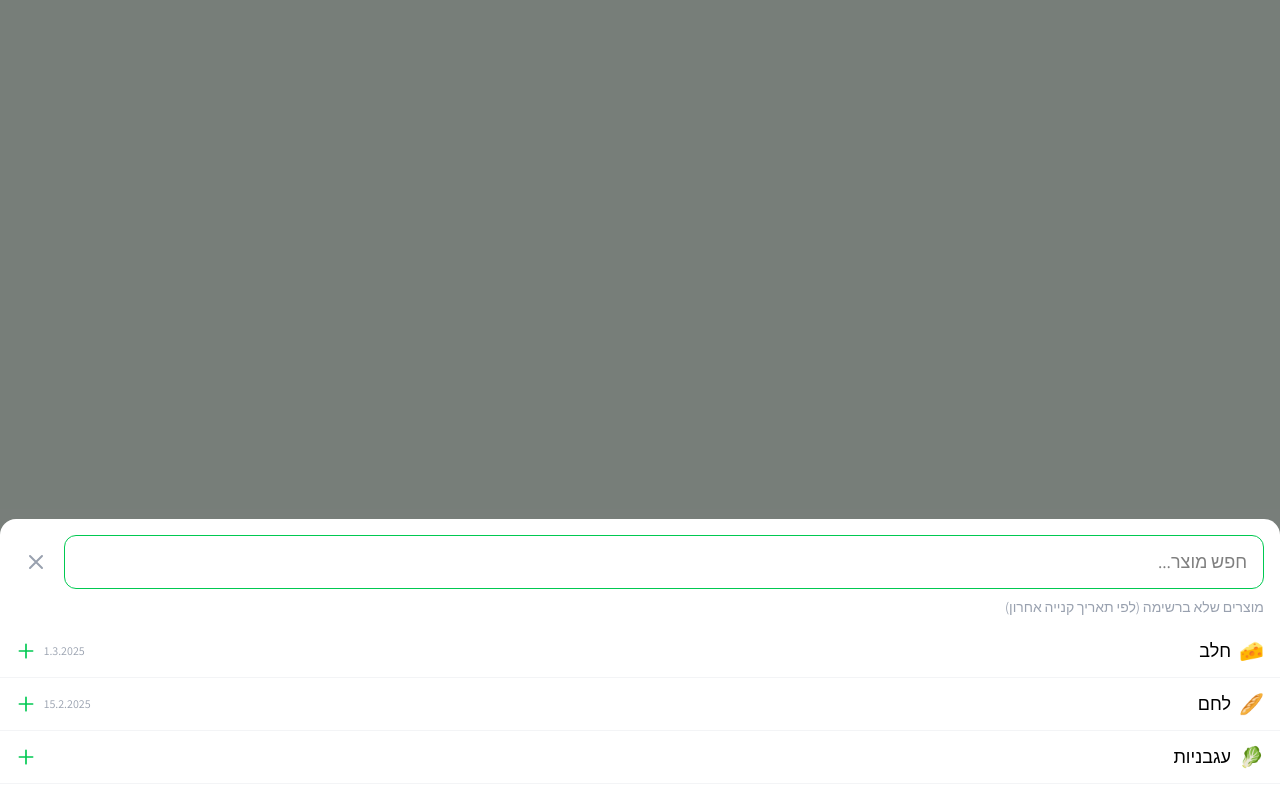
it: AddItemInput › filters catalog items based on search query
The image size is (1280, 800).
Expected: the text "חלב" is shown, [1199,639,1231,662]
Type "חלב" into the field with placeholder "חפש מוצר..." at [664, 562], box [64,535,1264,589]
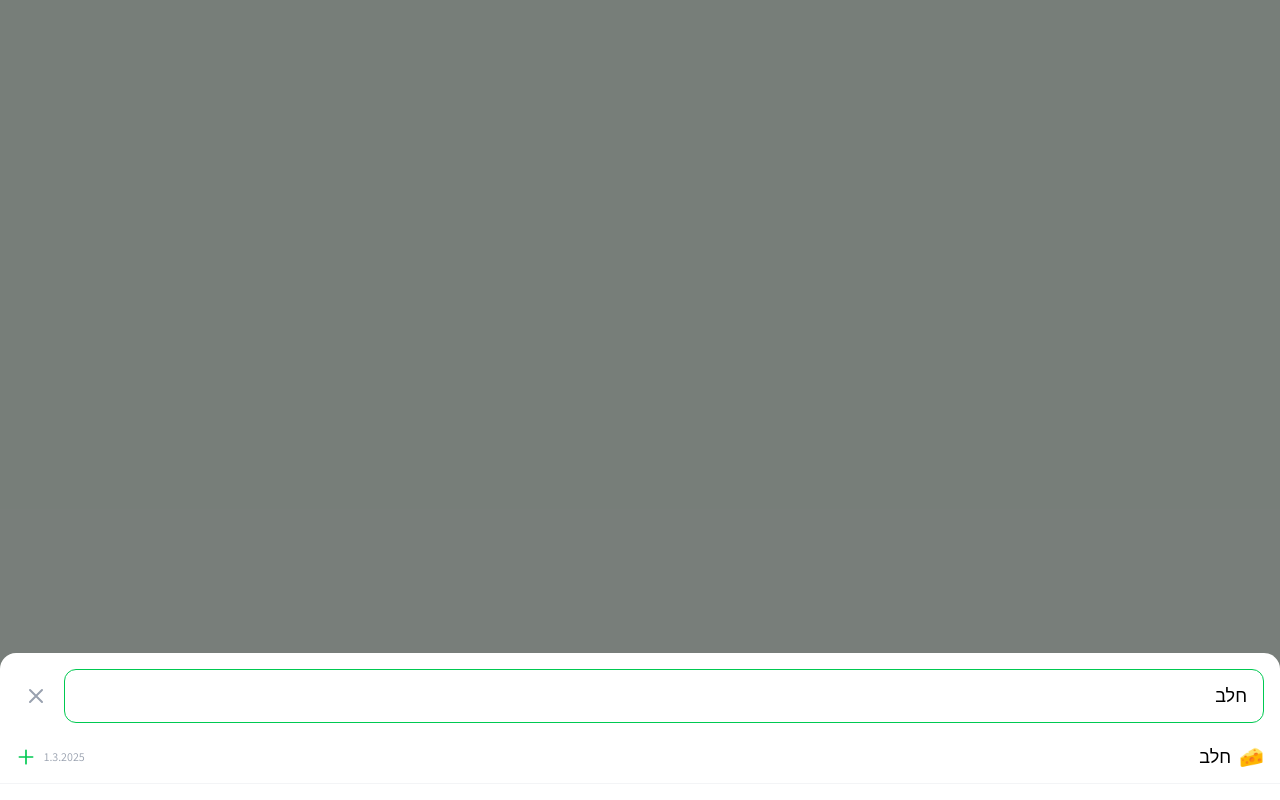
Expected: the text "חלב" is shown, [1199,745,1231,768]
Expected: the button "עגבניות" is gone
